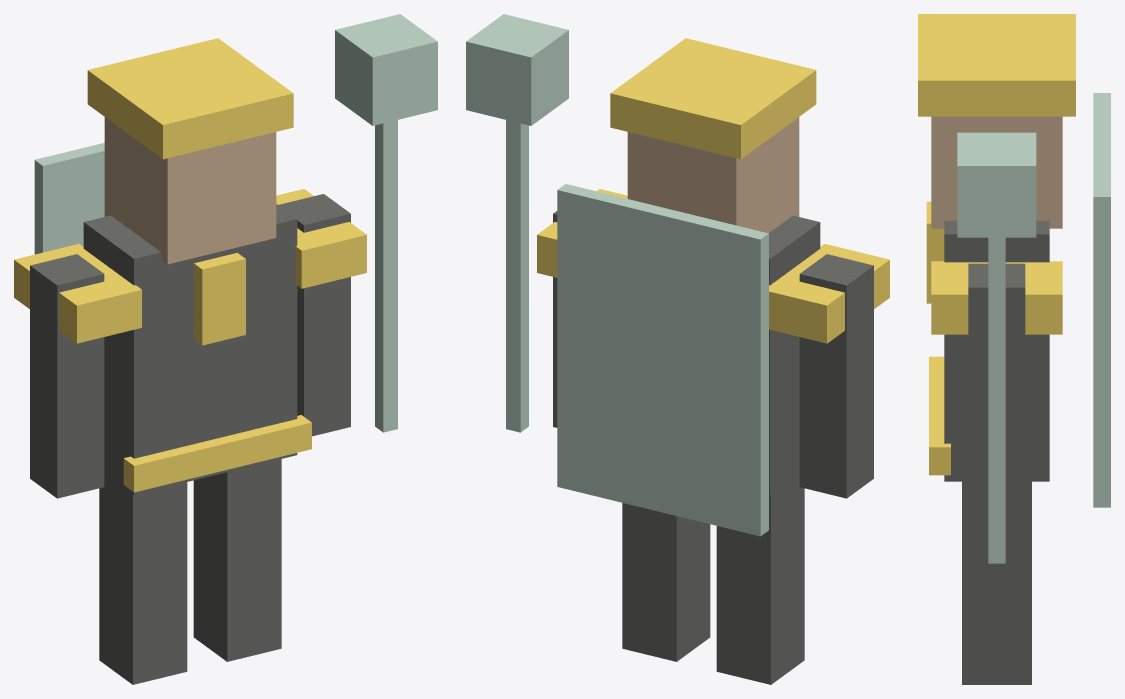
File: 18_luma_trenchmark_fixer_near_ore.glb
3 renders of one model, left to right at view 1: azimuth 30°, elevation 25°; view 2: azimuth 150°, elevation 25°; view 3: azimuth 270°, elevation 25°, orthographic. The views are drawn at different scales.
Parts seen in each view (by area): view 1: Luma Trenchmark, Fixer near Ore; view 2: Luma Trenchmark, Fixer near Ore; view 3: Luma Trenchmark, Fixer near Ore.
Boxes of the visible parts, left/top/right/bottom form: Luma Trenchmark, Fixer near Ore: left=14, top=14, right=437, bottom=684; Luma Trenchmark, Fixer near Ore: left=466, top=14, right=889, bottom=684; Luma Trenchmark, Fixer near Ore: left=918, top=14, right=1110, bottom=684.
Size of the model in its own units: 1.06 by 1.54 by 0.4498.
